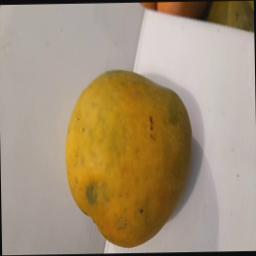Mango Ripe: (56, 61, 202, 248)
